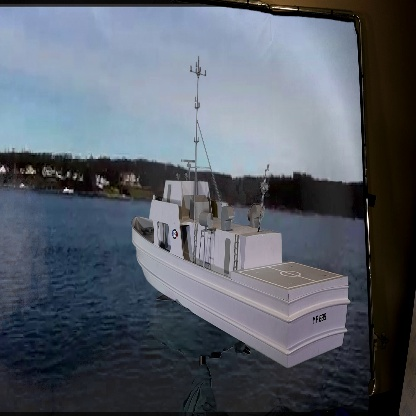YP689: (131, 55, 349, 370)
